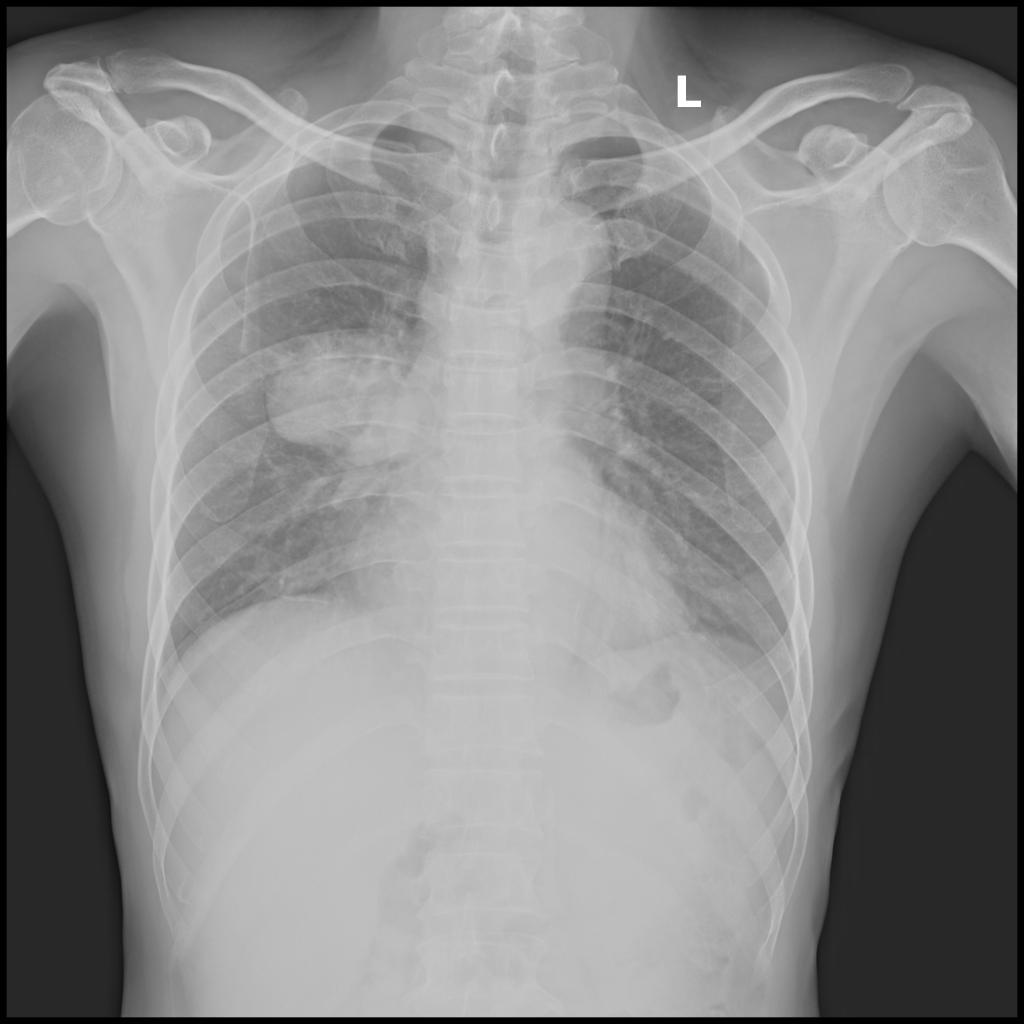Nodule: (262, 336, 431, 451)
